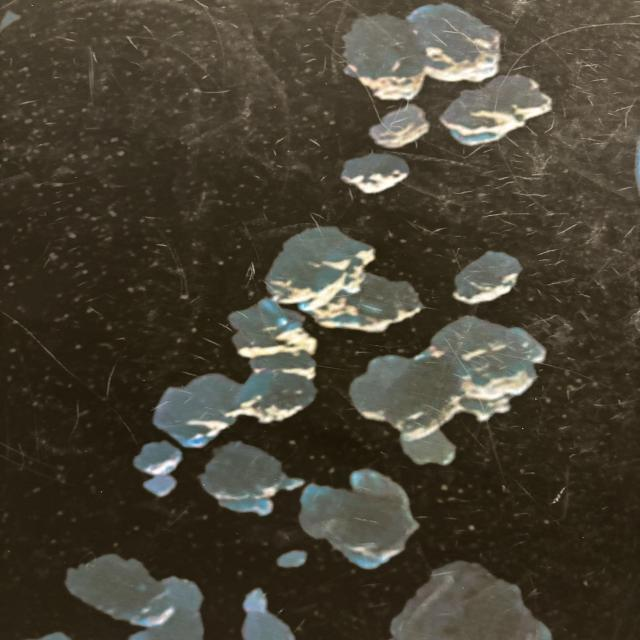Asteroids: (39, 3, 569, 640)
